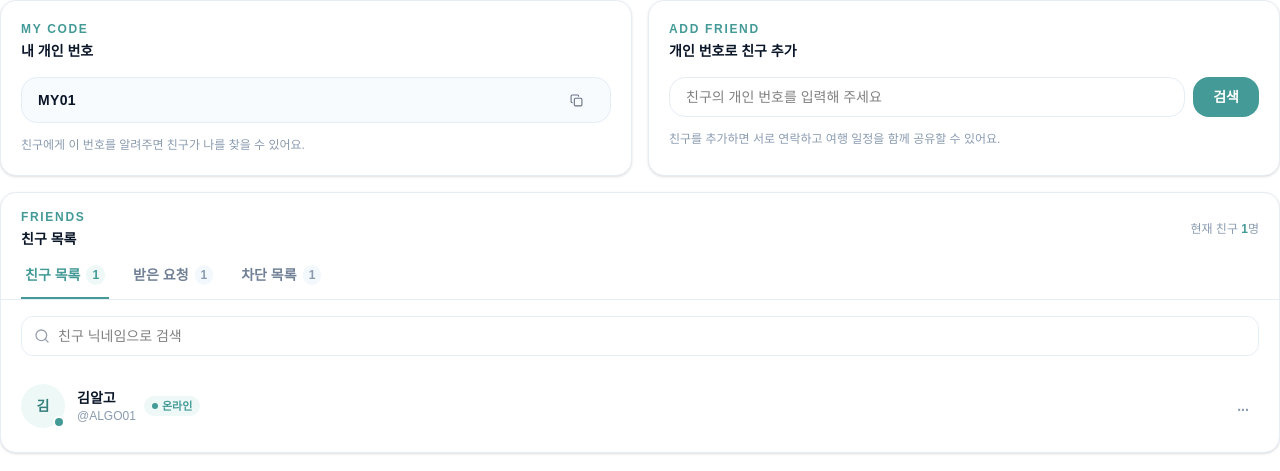
it: FriendManagement 컴포넌트 테스트 › 차단 목록 탭으로 전환하면 차단된 사용자가 표시된다
This screenshot has width=1280, height=471.
Expected: the text "김알고" is shown, [77, 390, 116, 406]
Click the button "차단 목록 1" at (281, 282), box [237, 265, 325, 299]
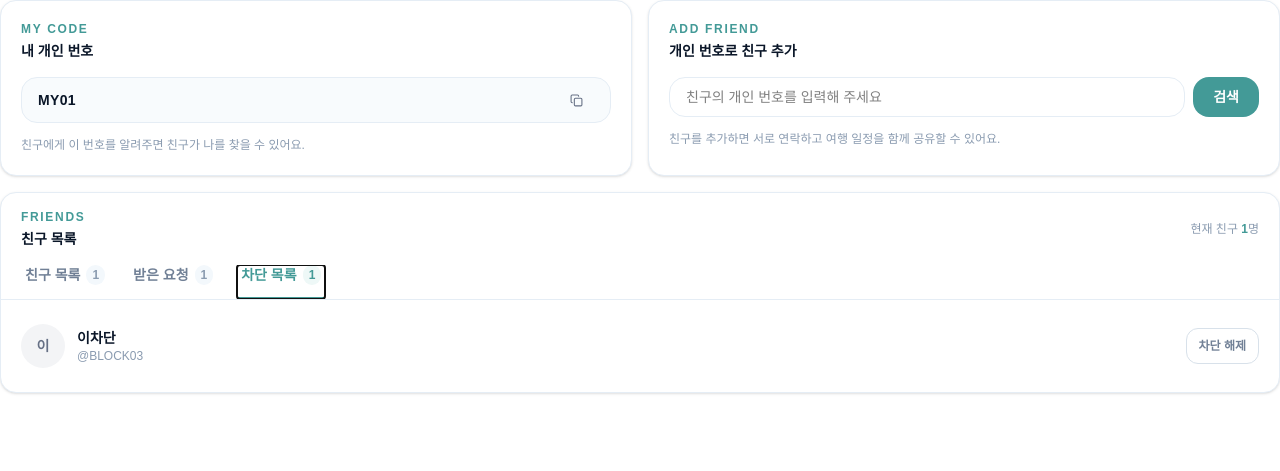
Result: the text "이차단" is shown at [77, 330, 116, 346]
